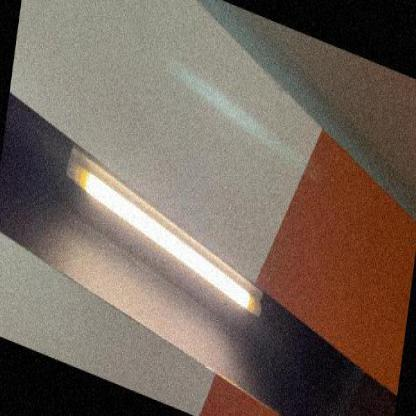light_on: (52, 120, 284, 337)
